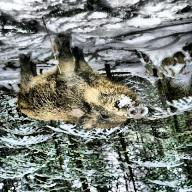boar: (15, 32, 156, 142)
